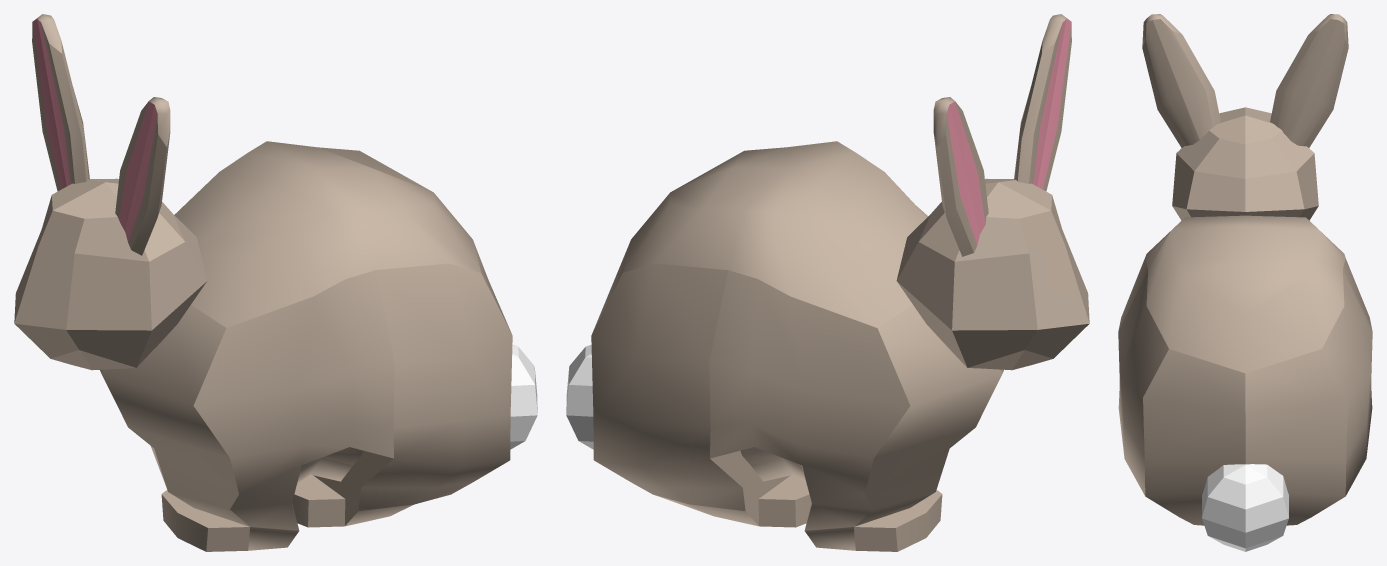
The model's file is bunny.glb.
3 renders of one model, left to right at view 1: azimuth 30°, elevation 25°; view 2: azimuth 150°, elevation 25°; view 3: azimuth 270°, elevation 25°, orthographic. The views are drawn at different scales.
Visible parts, largest first — view 1: Bunny_geo; view 2: Bunny_geo; view 3: Bunny_geo.
Part boxes in pixels (x1,y1,x2,y2): Bunny_geo: [14, 14, 537, 551]; Bunny_geo: [566, 14, 1089, 551]; Bunny_geo: [1118, 14, 1372, 551].
Size of the model in its own units: 0.3185 by 0.2905 by 0.1696.
1 material, 1 textured.
